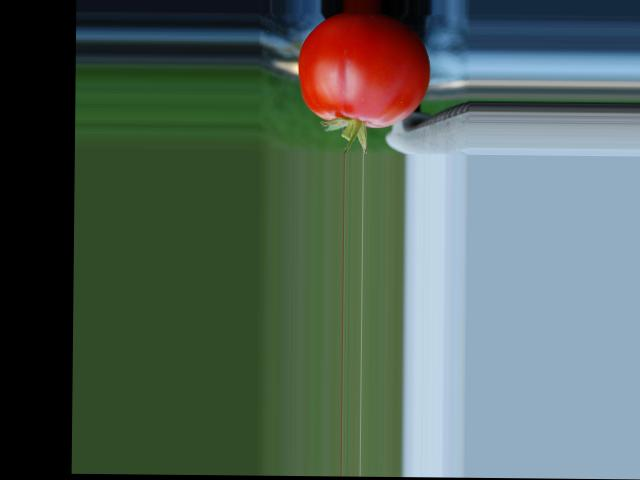tomato: (297, 11, 430, 128)
